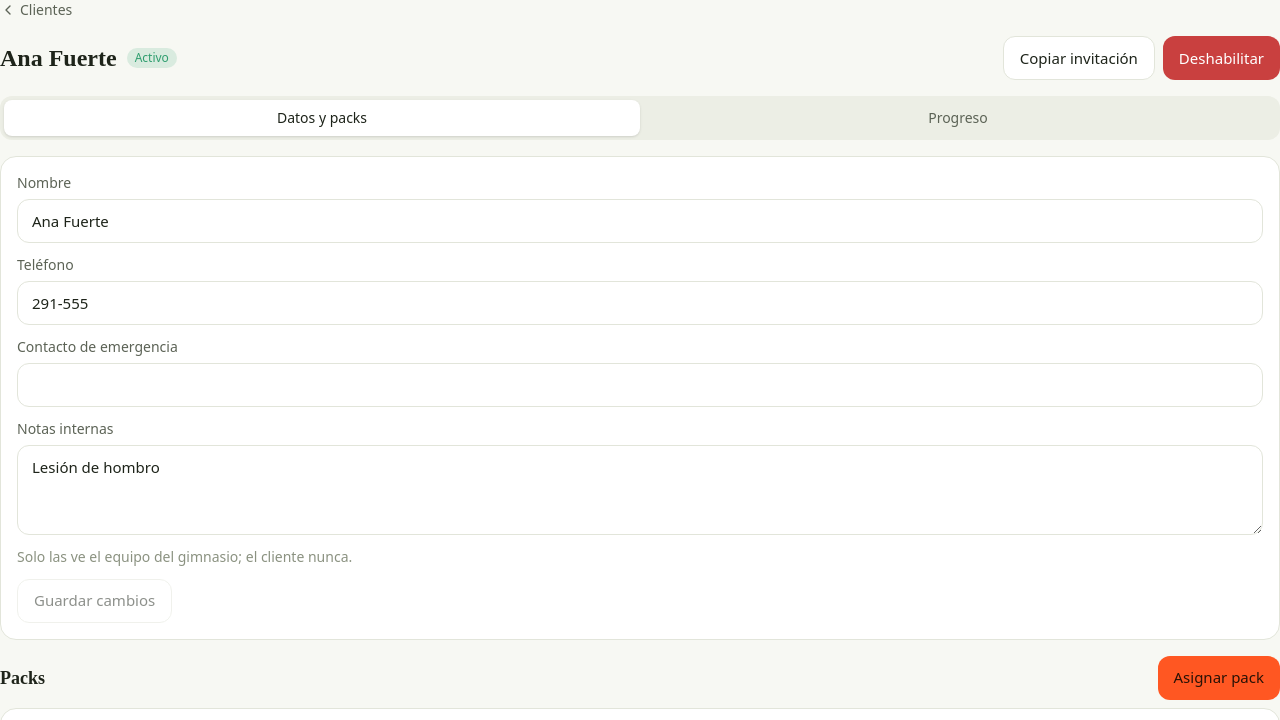
Test: ClientDetail (F3-05) › deshabilitar explica el efecto antes de confirmar (RN-03)
Click the button "Deshabilitar". click: coordinates (1221, 58)
box: top-left (1163, 36), bottom-right (1279, 80)
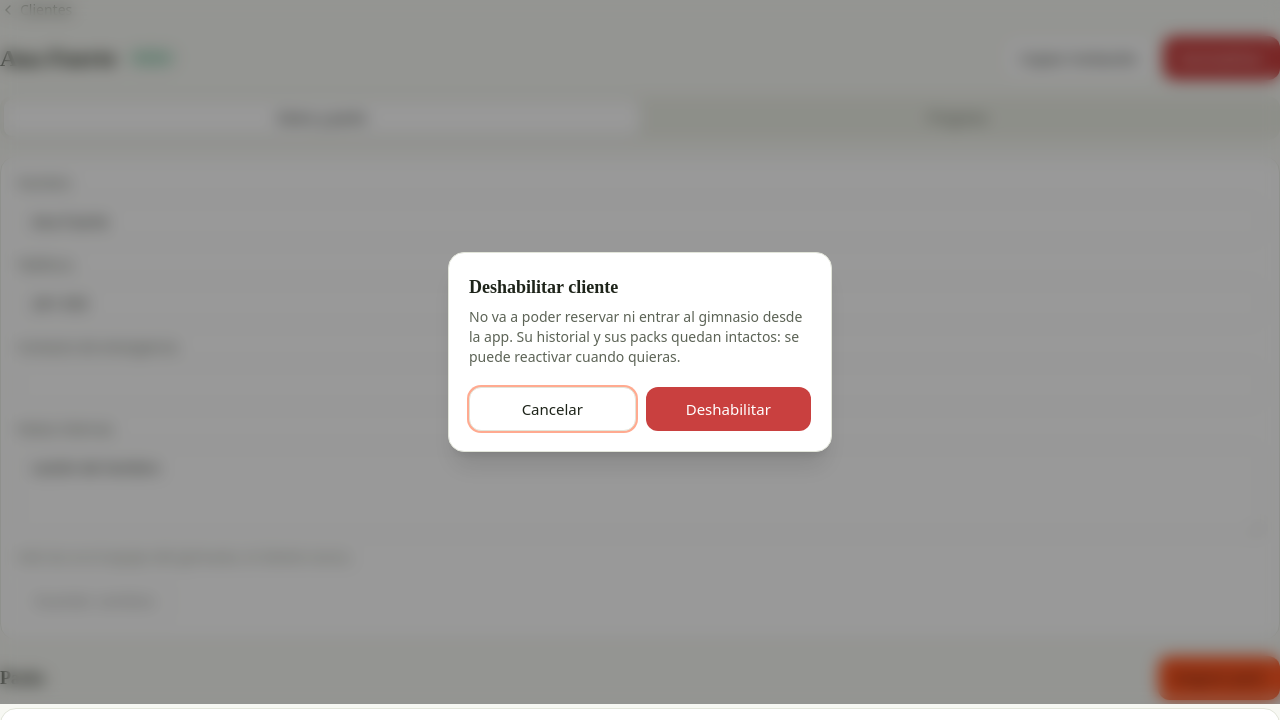
Now the text "Su historial y sus packs quedan intactos" is shown, box top-left (469, 307), bottom-right (802, 366)
Click the button "Deshabilitar". click: coordinates (728, 409)
box: top-left (646, 387), bottom-right (811, 431)
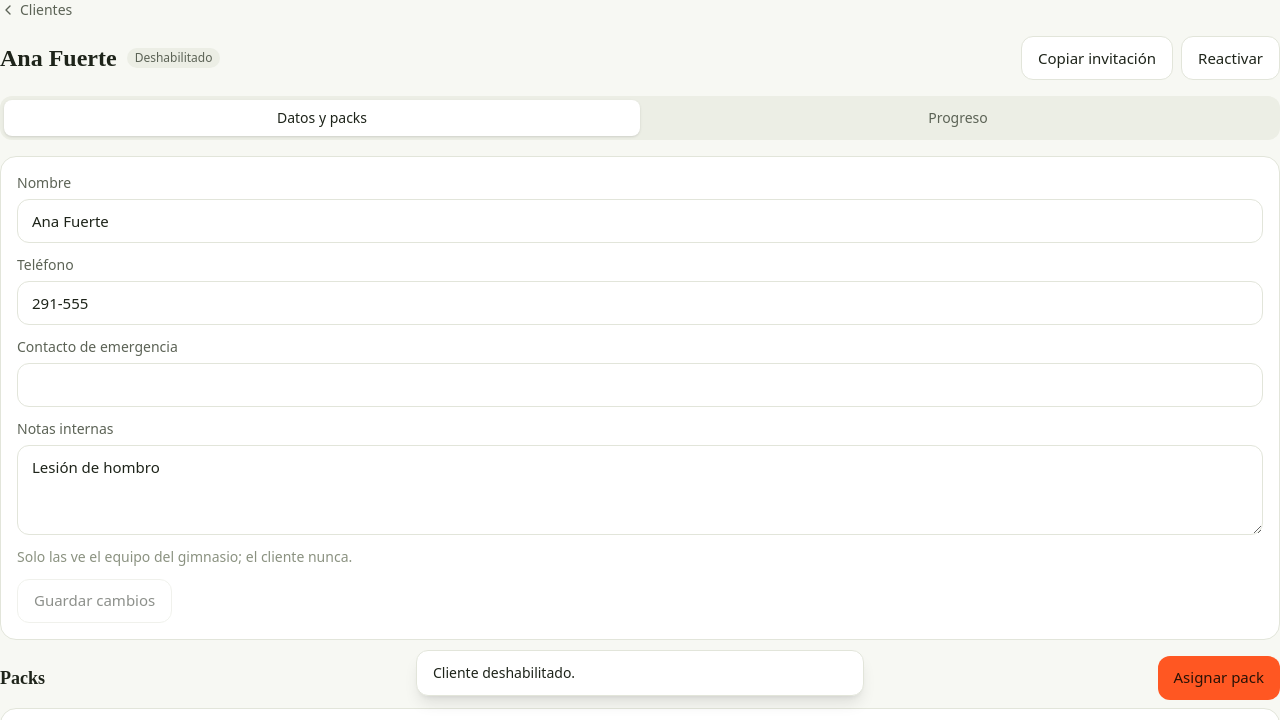
Now the button "Reactivar" is shown, box top-left (1181, 36), bottom-right (1279, 80)
